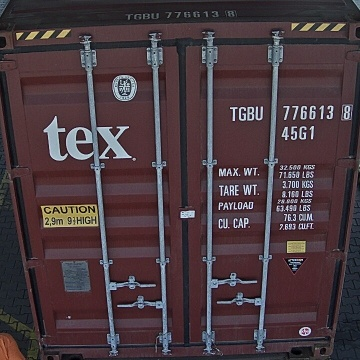serial_id: (230, 104, 351, 120)
